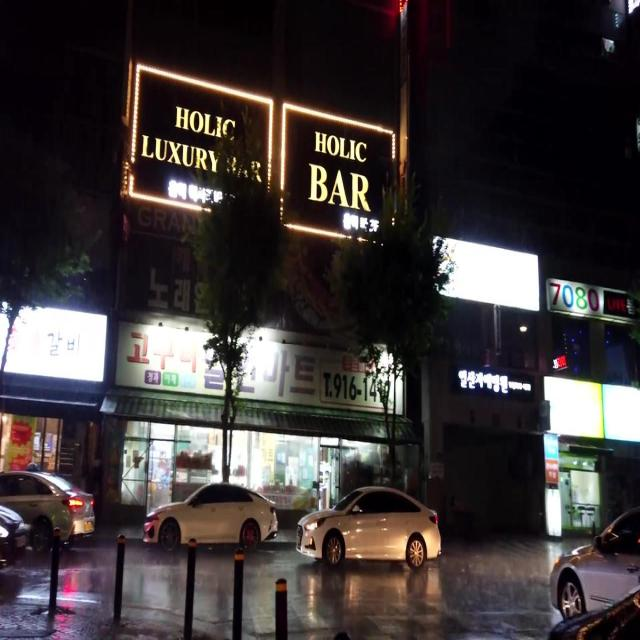Car: (294, 487, 441, 567), (140, 479, 277, 549), (550, 500, 639, 607)
